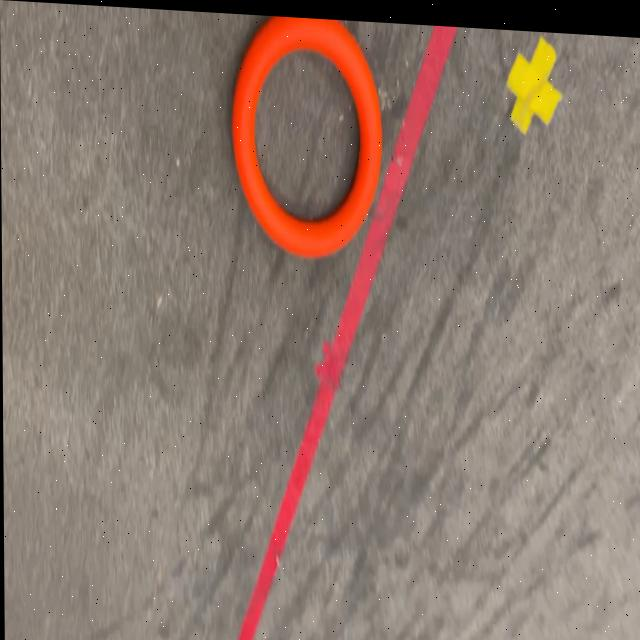note: (231, 11, 382, 259)
